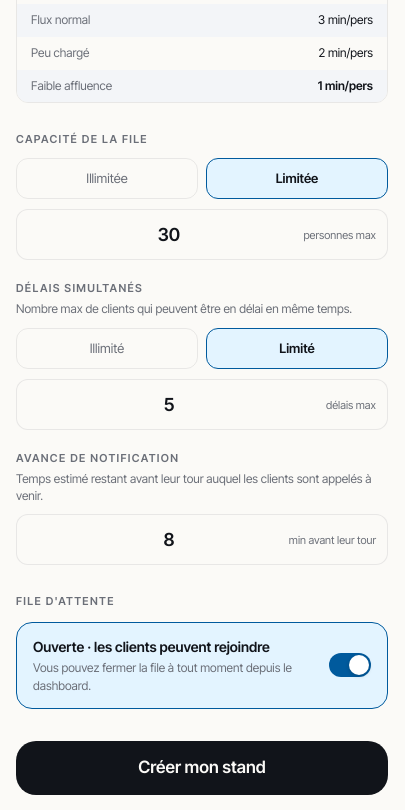
Test case: ScreenVendorSetup › maxDelayed clamps at minimum 0 when set to negative
(page scrolled)
Replace the text in the number field next to "délais max" with "-1" at (202, 405), box [16,379,388,430]
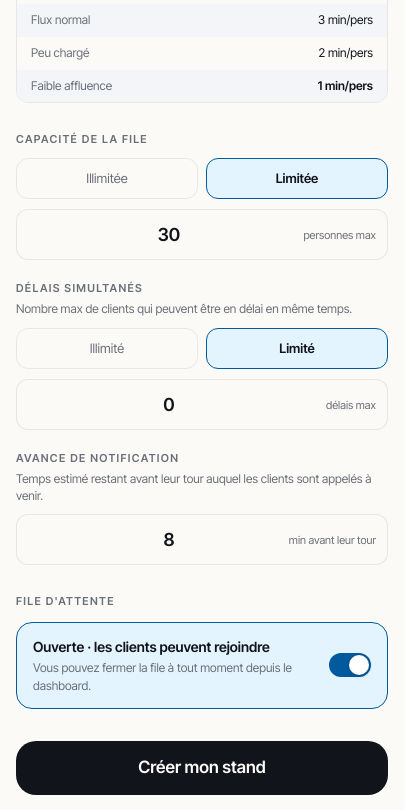
Expected: the number field next to "délais max" holds "0", [16,379,388,430]
